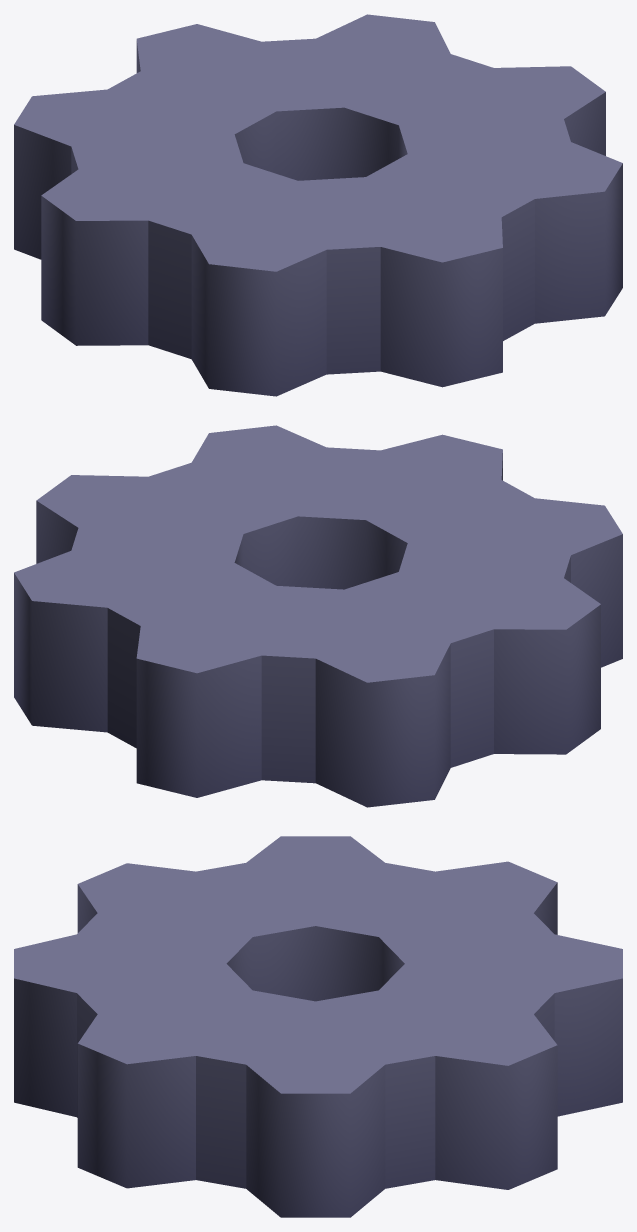
The model's file is cog-d.glb.
3 renders of one model, top to bottom at view 1: azimuth 30°, elevation 25°; view 2: azimuth 150°, elevation 25°; view 3: azimuth 270°, elevation 25°, orthographic.
Visible parts, largest first — view 1: cog-d; view 2: cog-d; view 3: cog-d.
Boxes of the visible parts, x1,y1,x2,y2 form: cog-d: (14, 14, 622, 396); cog-d: (14, 425, 622, 807); cog-d: (14, 836, 622, 1217).
Bounding box in the file's own units: 1 × 0.225 × 1.
